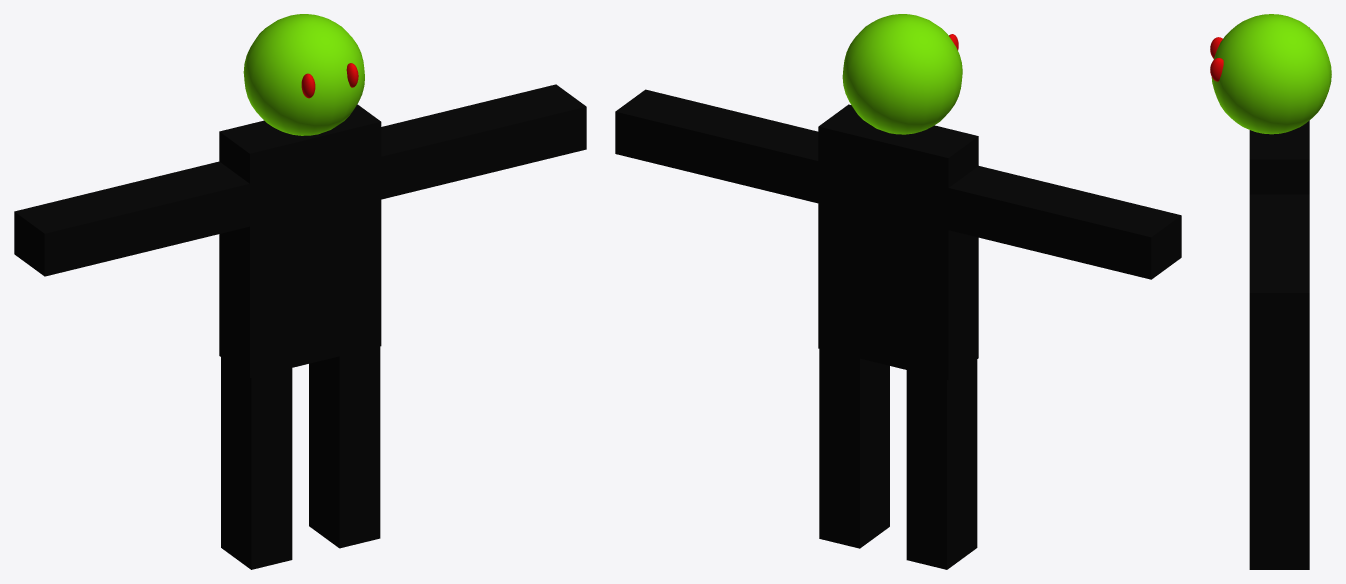
File: enemy2.fbx
3 renders of one model, left to right at view 1: azimuth 30°, elevation 25°; view 2: azimuth 150°, elevation 25°; view 3: azimuth 270°, elevation 25°, orthographic.
Parts seen in each view (by area): view 1: pasted__pasted__pCube1 (×3), pCube1, pasted__pCube1, pSphere1; view 2: pasted__pasted__pCube1 (×3), pCube1, pasted__pCube1, pSphere1; view 3: pasted__pCube1, pSphere1, pasted__pasted__pCube1, pCube1, pasted__pSphere2.
Part boxes in pixels (bbox=[...]): pasted__pasted__pCube1 (×3): bbox=[14, 84, 586, 569]; pCube1: bbox=[219, 104, 381, 377]; pasted__pCube1: bbox=[309, 316, 380, 548]; pSphere1: bbox=[243, 14, 364, 135]; pasted__pasted__pCube1 (×3): bbox=[615, 89, 1181, 569]; pCube1: bbox=[818, 104, 978, 379]; pasted__pCube1: bbox=[819, 317, 889, 548]; pSphere1: bbox=[842, 14, 962, 134]; pasted__pCube1: bbox=[1249, 381, 1309, 569]; pSphere1: bbox=[1211, 14, 1331, 134]; pasted__pasted__pCube1: bbox=[1249, 194, 1309, 335]; pCube1: bbox=[1249, 120, 1309, 380]; pasted__pSphere2: bbox=[1210, 58, 1223, 81].
Bounding box in the file's own units: 10.25 × 9.52 × 2.02.
